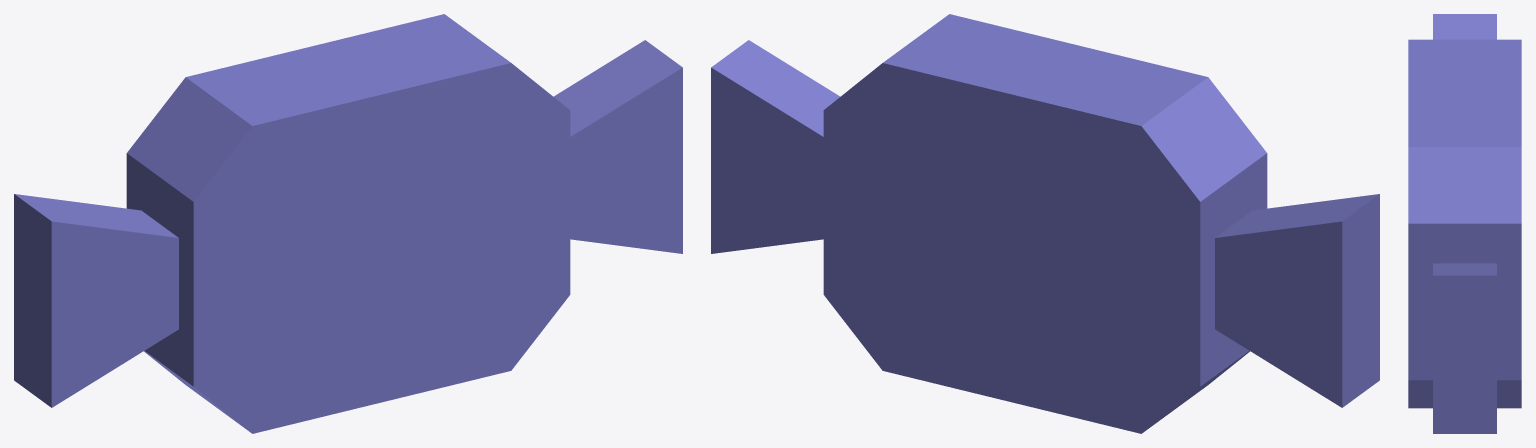
The model's file is 042 Candy.fbx.
3 views of the same model, side by side, from view 1: azimuth 30°, elevation 25°; view 2: azimuth 150°, elevation 25°; view 3: azimuth 270°, elevation 25° (orthographic). The views are drawn at different scales.
Visible parts, largest first — view 1: Lowpoly_Christmas_Pack_042:pCube1; view 2: Lowpoly_Christmas_Pack_042:pCube1; view 3: Lowpoly_Christmas_Pack_042:pCube1.
Boxes of the visible parts, x1,y1,x2,y2 form: Lowpoly_Christmas_Pack_042:pCube1: (14,14,682,433); Lowpoly_Christmas_Pack_042:pCube1: (711,14,1379,433); Lowpoly_Christmas_Pack_042:pCube1: (1408,14,1521,433).
Bounding box in the file's own units: 1.25 × 0.5806 × 0.2286.
